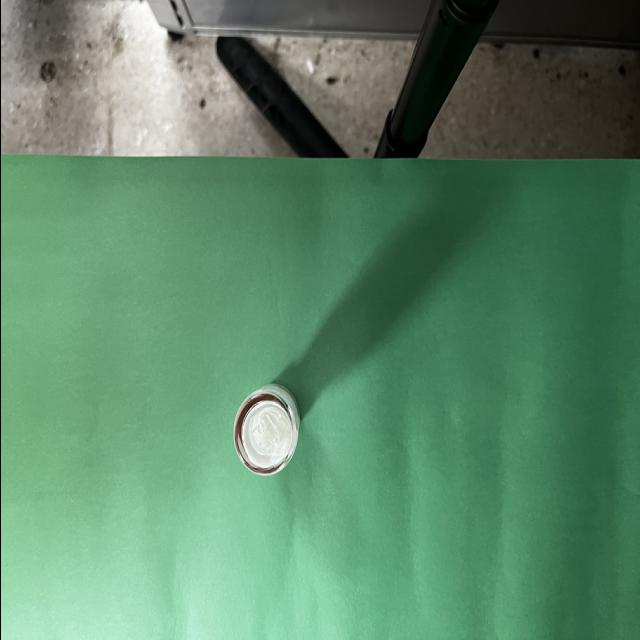Vials: (233, 383, 300, 474)
